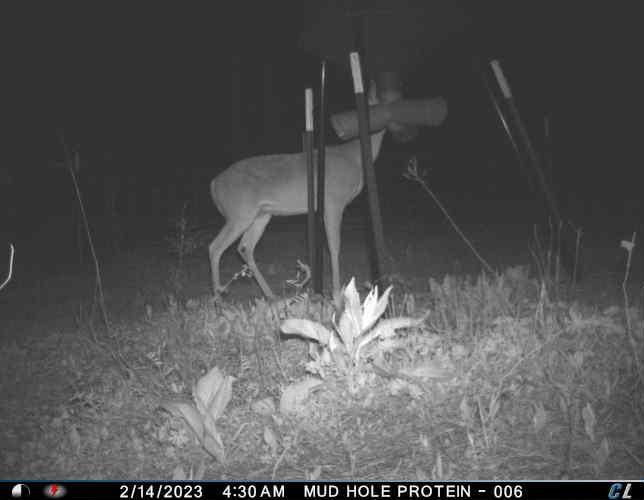Deer: (207, 91, 391, 310)
